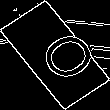O_SW: (18, 23, 92, 87)
